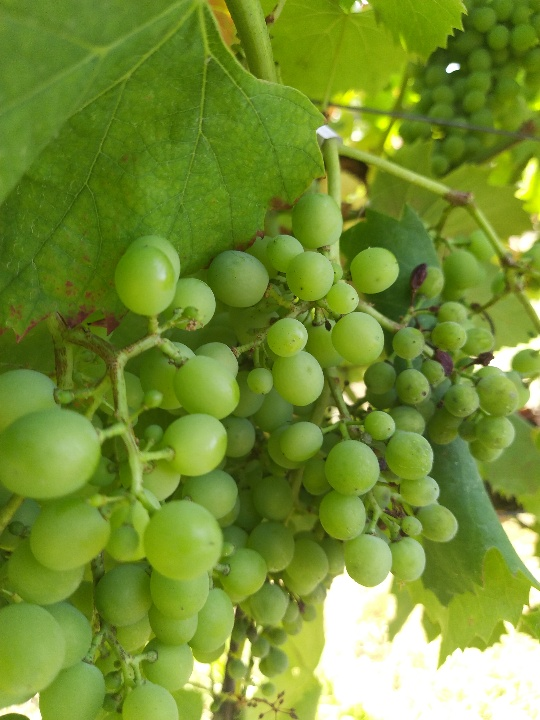grape: (5, 237, 269, 718), (281, 194, 530, 586)
